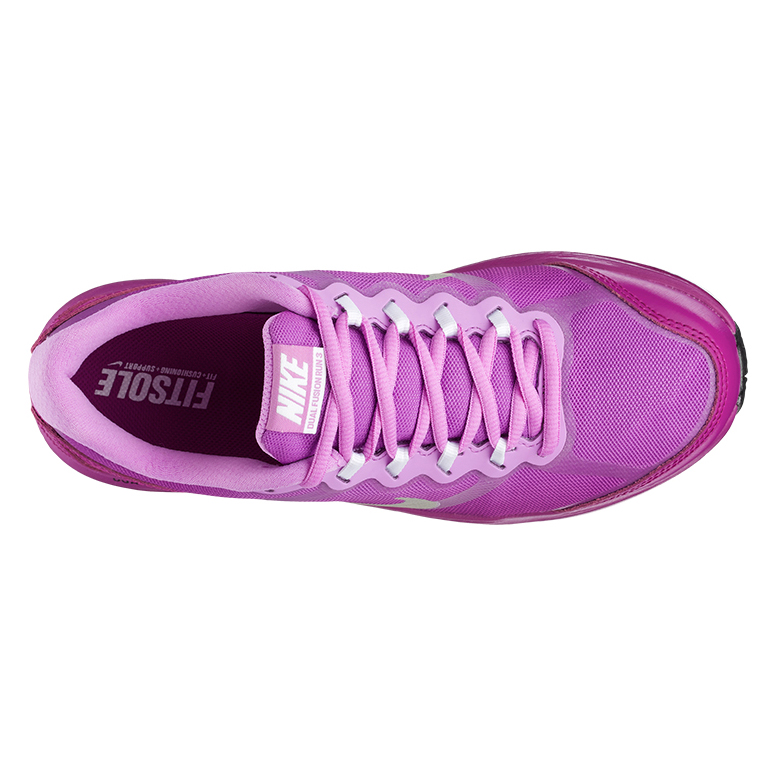Nike: (275, 345, 311, 433), (104, 357, 126, 368)
